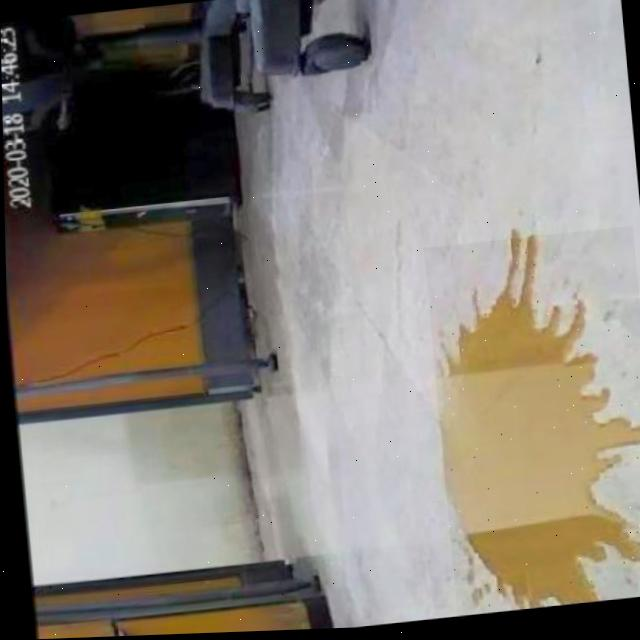spillage: (435, 239, 640, 609)
